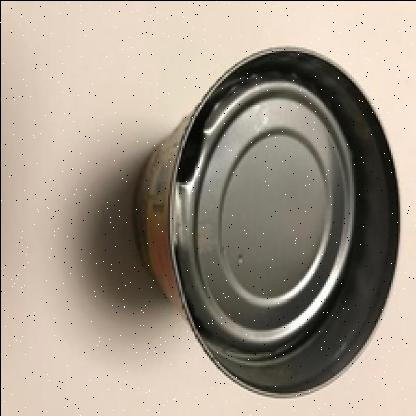Can: (78, 11, 416, 416)
